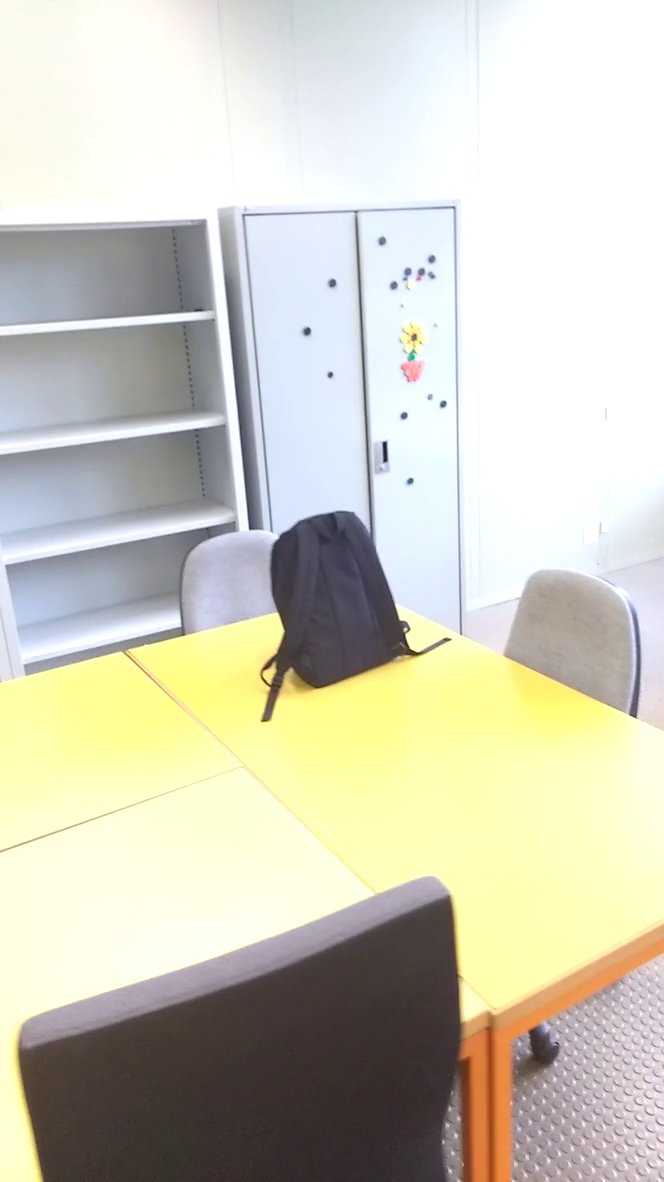bag: (255, 506, 451, 723)
chair: (14, 864, 506, 1182), (490, 551, 664, 747), (174, 517, 309, 640)
